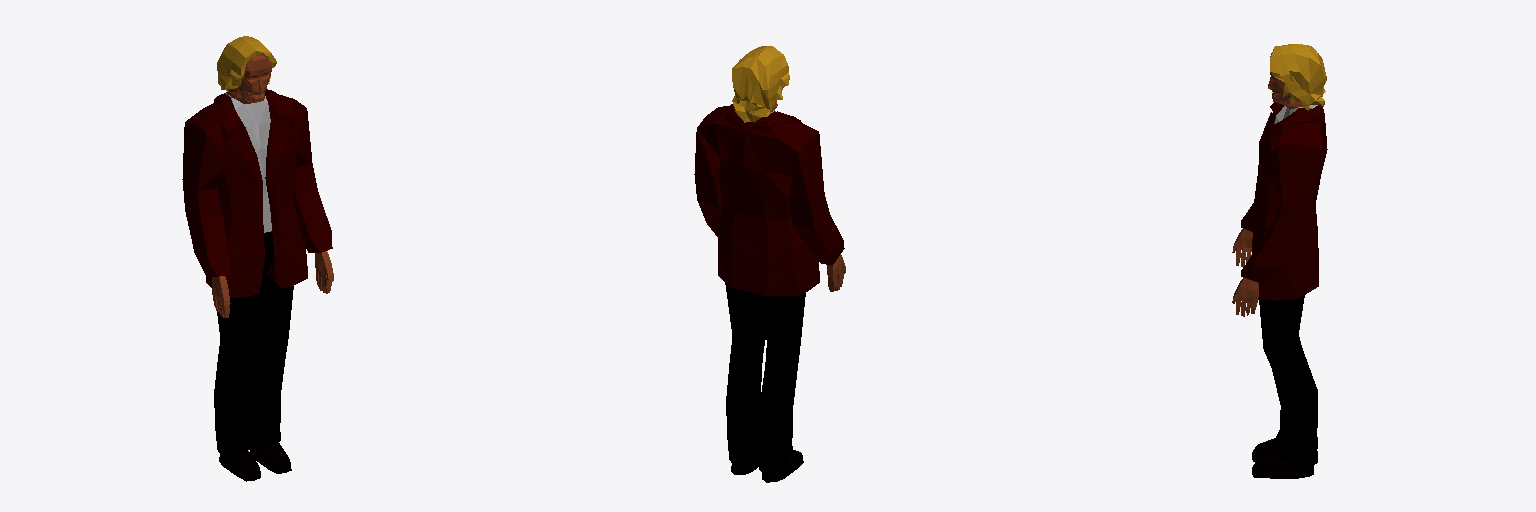
The model's file is man.obj.
3 views of the same model, side by side, from view 1: azimuth 30°, elevation 25°; view 2: azimuth 150°, elevation 25°; view 3: azimuth 270°, elevation 25° (orthographic).
Visible parts, largest first — view 1: Cube.002_Cube.001; view 2: Cube.002_Cube.001; view 3: Cube.002_Cube.001.
Part boxes in pixels (x1,y1,x2,y2): Cube.002_Cube.001: (182, 36, 333, 481); Cube.002_Cube.001: (694, 46, 845, 482); Cube.002_Cube.001: (1232, 44, 1327, 478).
Size of the model in its own units: 1.42 by 4.63 by 0.9488.